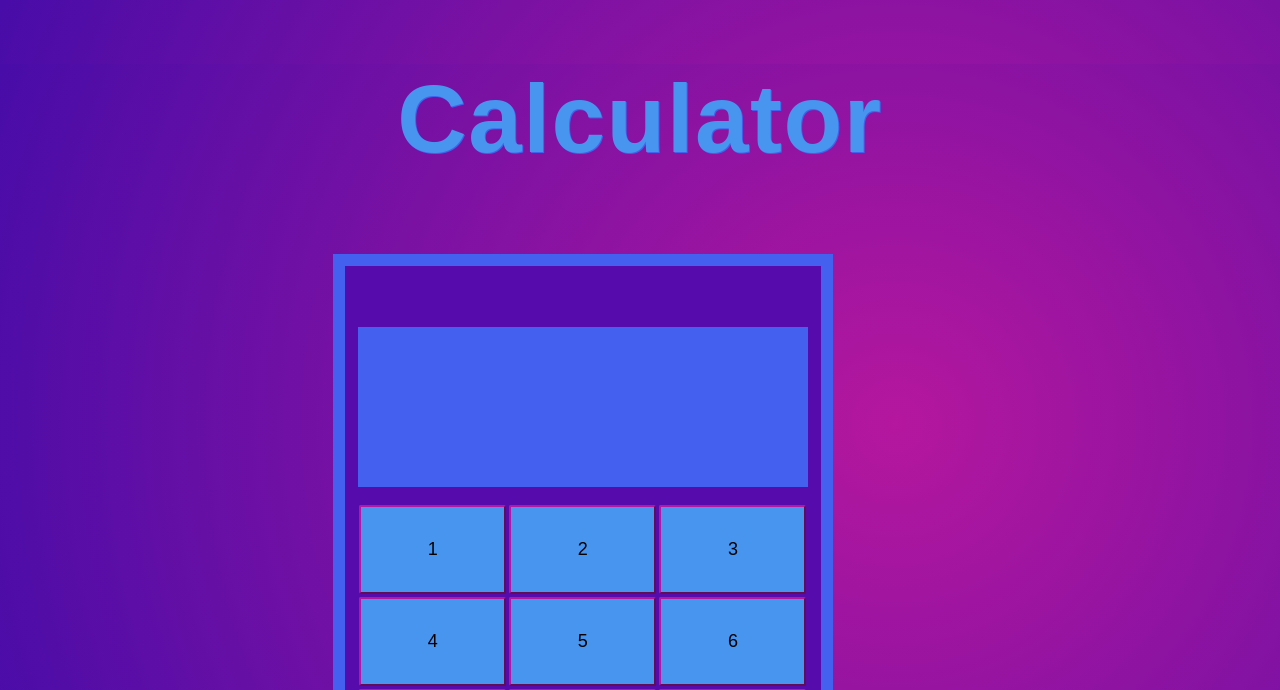
Test case: Test to see if my Calculator app works › Check a single number button can pressed and displayed on the page
This screenshot has width=1280, height=690.
Step 1. Click the button with id "number-button-1" → (433, 550), box x1=359 y1=505 x2=506 y2=594
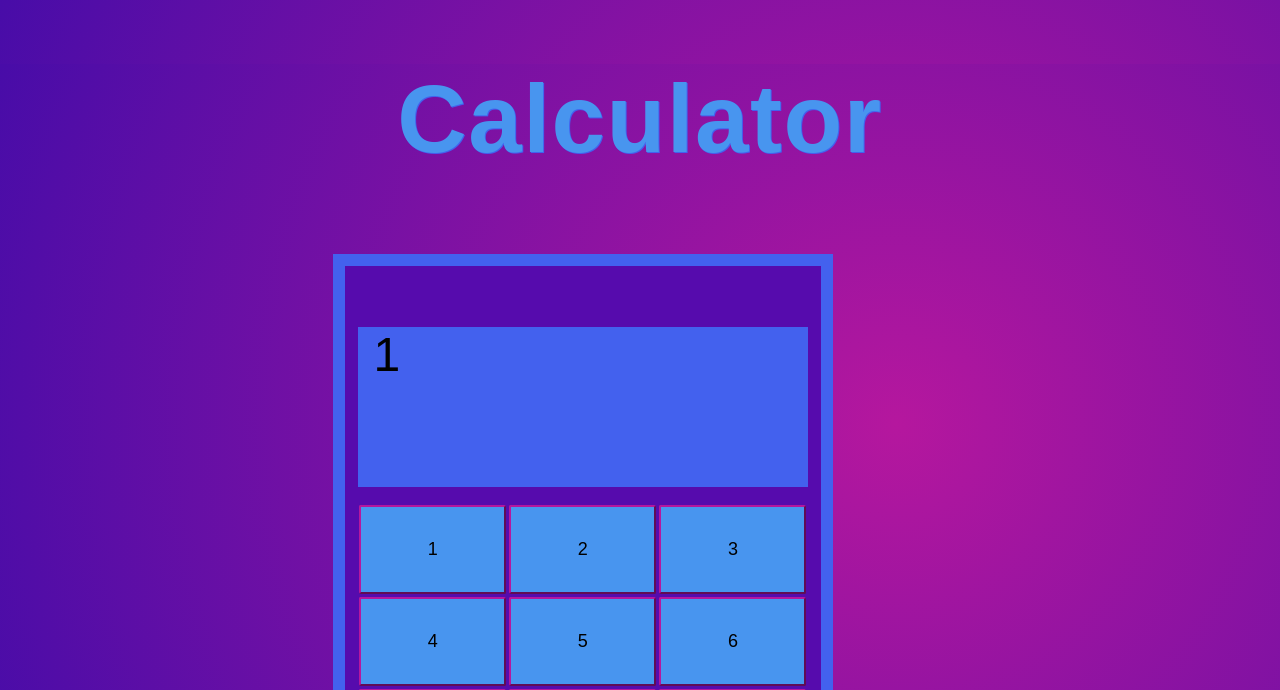
Result: the text with id "number-display" reads "1" at x1=374 y1=328 x2=402 y2=381
